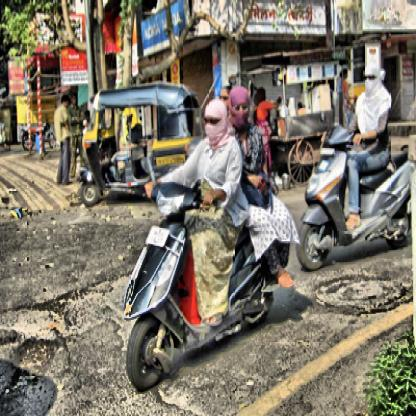not_wear: (201, 100, 226, 142), (231, 90, 248, 130), (363, 68, 381, 97)
